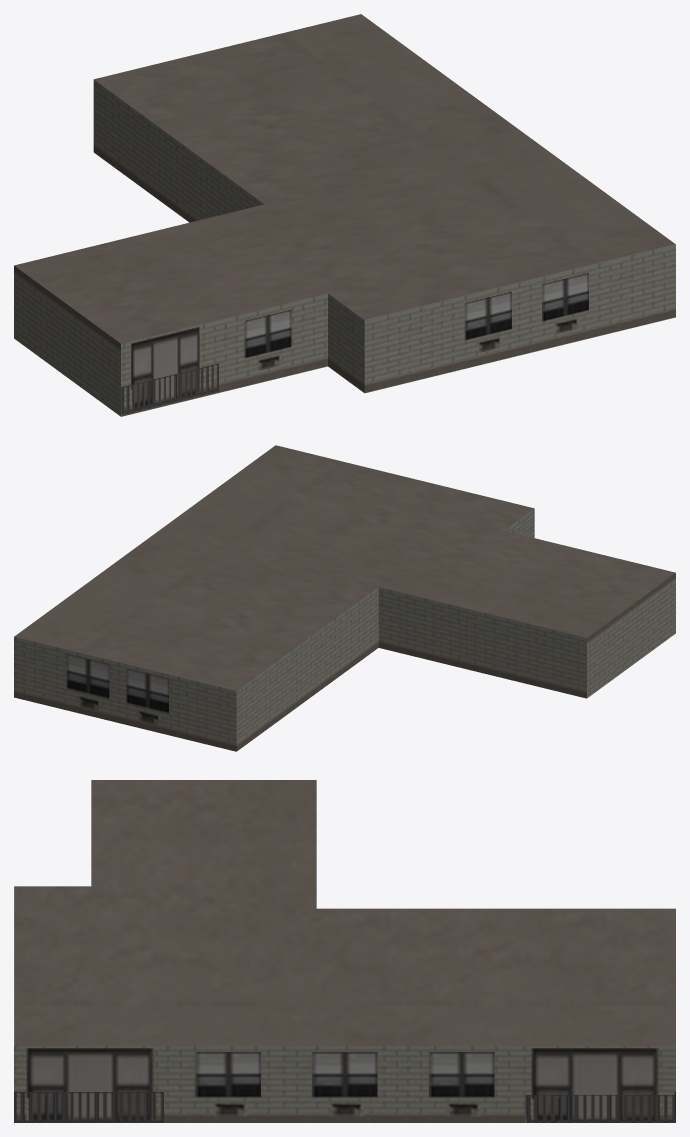
The picture shows the model from 3 angles, top to bottom: view 1: azimuth 30°, elevation 25°; view 2: azimuth 150°, elevation 25°; view 3: azimuth 270°, elevation 25°; orthographic projection. The views are drawn at different scales.
Parts seen in each view (by area): view 1: 立方体.001; view 2: 立方体.001; view 3: 立方体.001.
Boxes of the visible parts, x1,y1,x2,y2 form: 立方体.001: (14,14,675,416); 立方体.001: (14,445,675,751); 立方体.001: (14,780,675,1122).
Size of the model in its own units: 31.17 by 4.2 by 32.8.
Materials: 1 (1 with a texture image).
